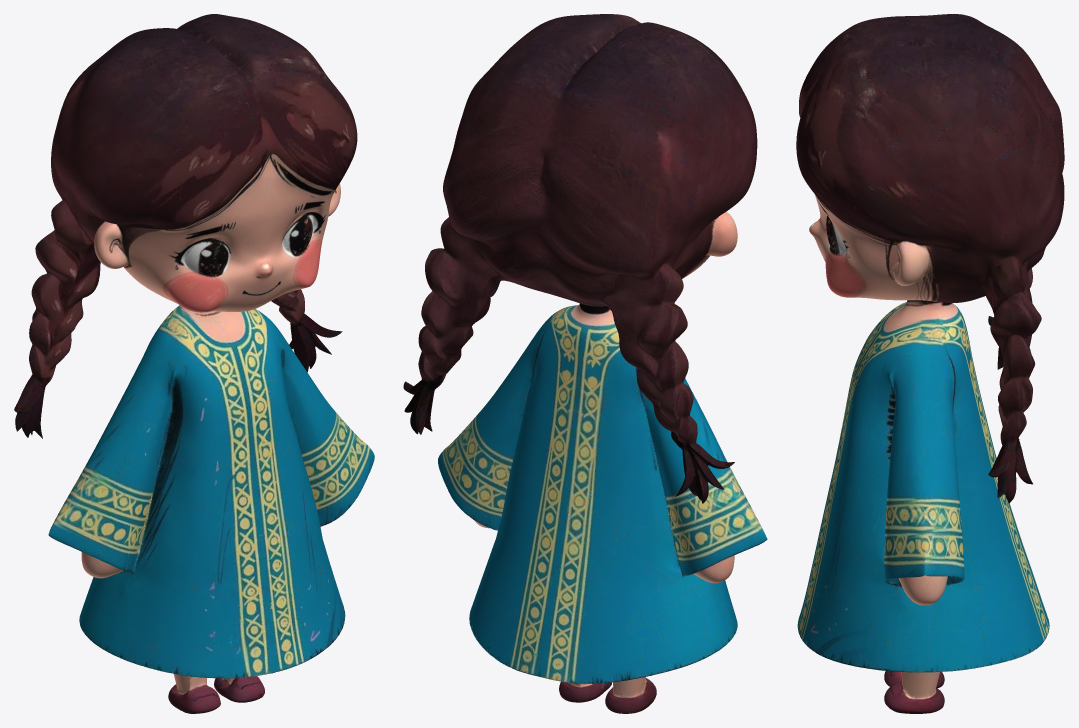
Rendered from hala-plain.glb.
The picture shows the model from 3 angles, left to right: view 1: azimuth 30°, elevation 25°; view 2: azimuth 150°, elevation 25°; view 3: azimuth 270°, elevation 25°; orthographic projection.
Size of the model in its own units: 0.9867 by 1.9 by 0.7022.
1 material, 1 textured.
